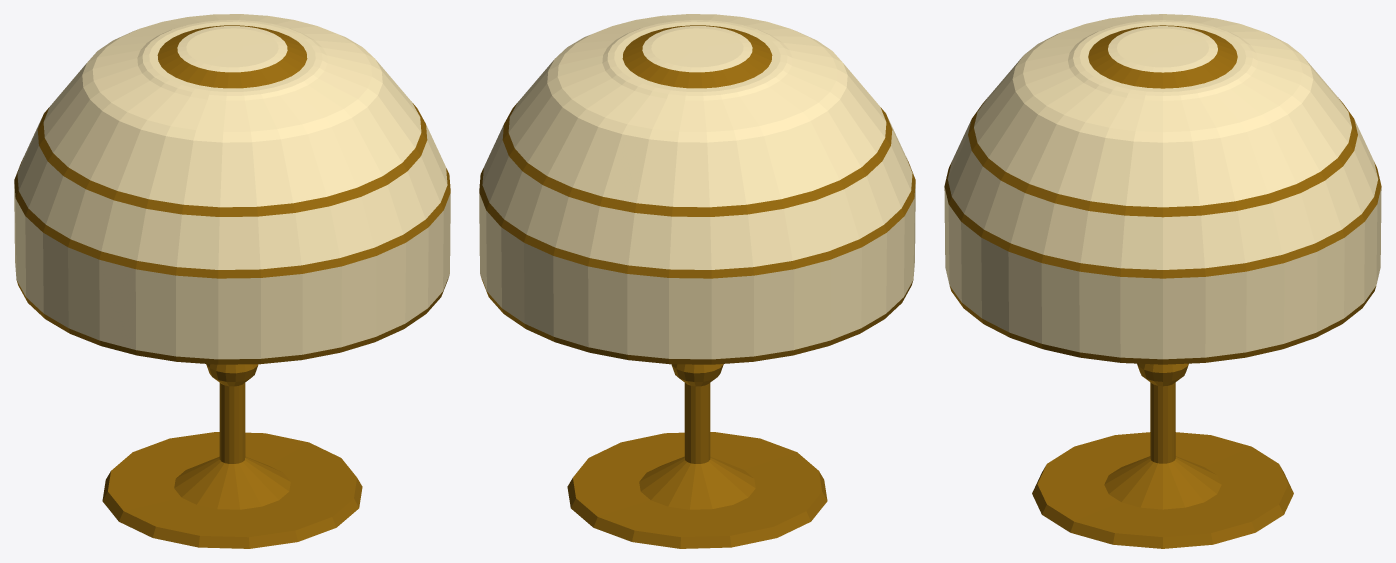
Rendered from TischLampe.fbx.
The picture shows the model from 3 angles, left to right: view 1: azimuth 30°, elevation 25°; view 2: azimuth 150°, elevation 25°; view 3: azimuth 270°, elevation 25°; orthographic projection.
Visible parts, largest first — view 1: Ständer, Cylinder; view 2: Ständer, Cylinder; view 3: Ständer, Cylinder.
Part boxes in pixels (<box>): Ständer: <box>14,14,450,364</box>; Cylinder: <box>102,364,362,548</box>; Ständer: <box>479,14,915,364</box>; Cylinder: <box>567,364,827,548</box>; Ständer: <box>944,14,1381,364</box>; Cylinder: <box>1032,363,1293,548</box>.
Bounding box in the file's own units: 249 × 280 × 249.
